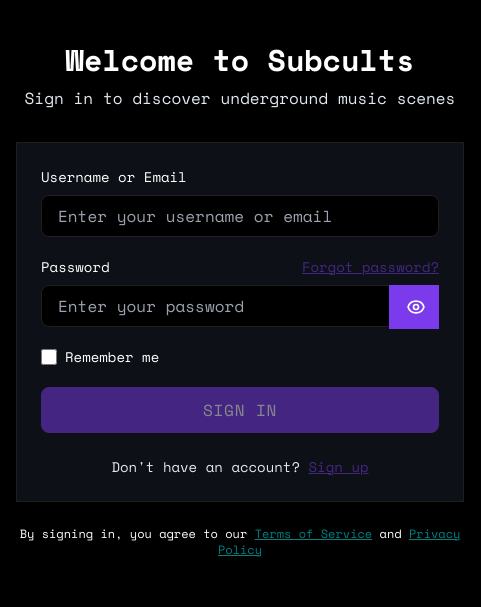
it: LoginPage › Accessibility › displays error with role="alert"
Type "testuser" into the field labelled "Username or Email" at (240, 216), box [41,195,439,237]
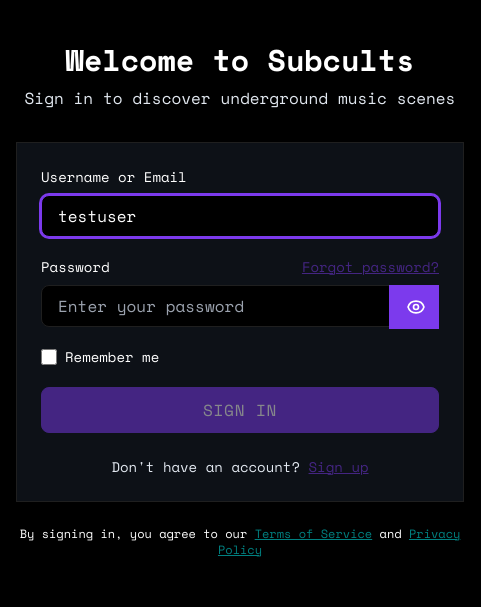
Type "password" into the password field labelled "Password" at (240, 306), box [41,285,439,327]
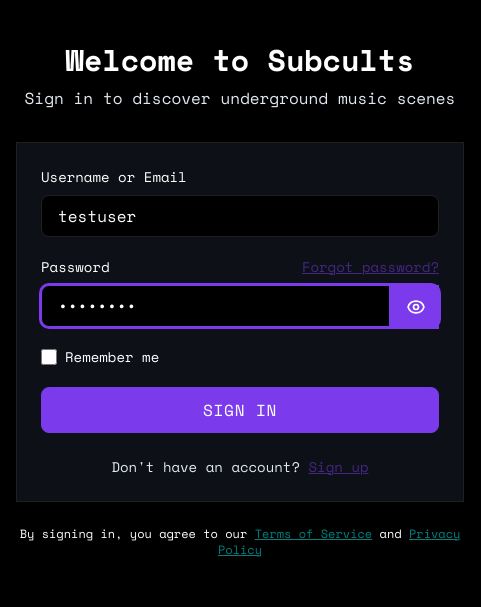
Click the button "Sign in" at (240, 410), box [41,387,439,433]
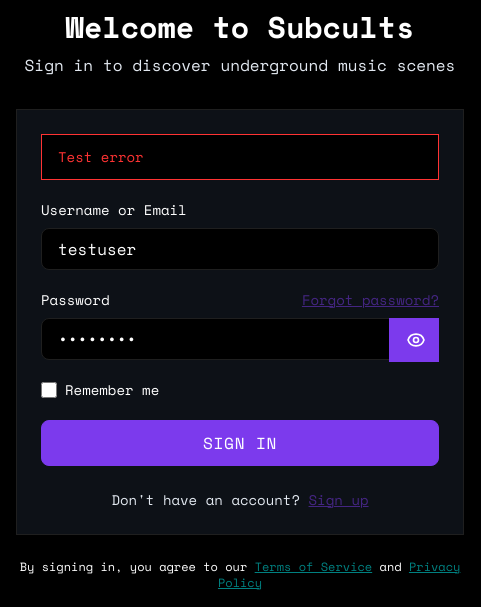
Result: the message "Test error" is shown at [41,134,439,180]
